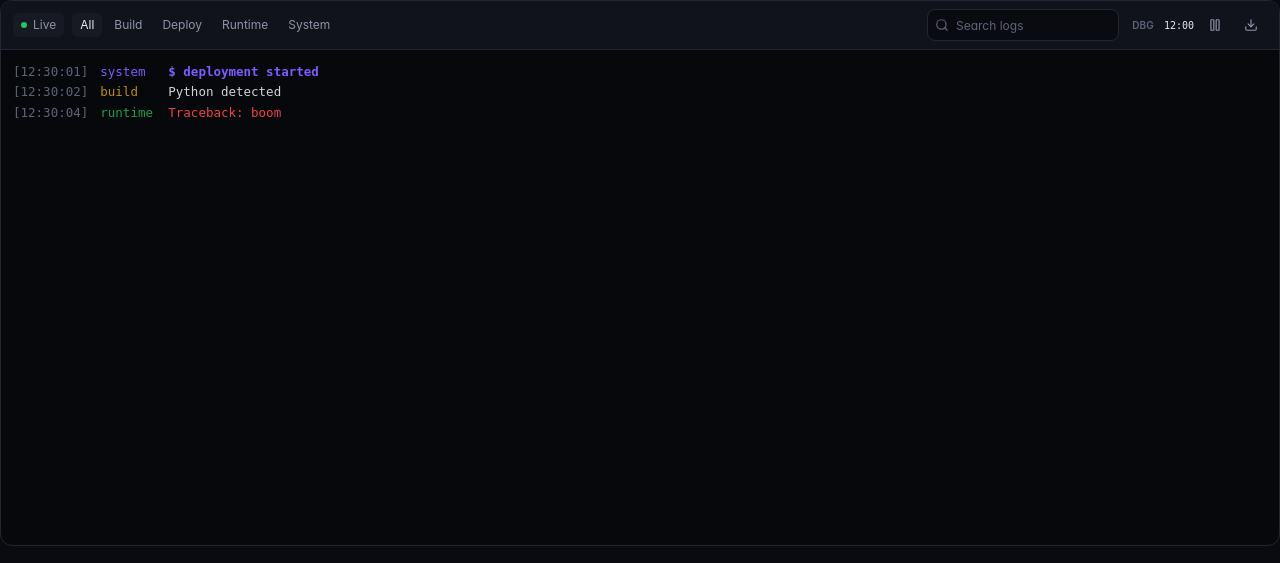
Scenario: LogViewer › filters by source and search, hides debug lines by default
Expected: the element that starts with "system" shows "Python detected", [168,84,281,99]
Expected: the element that starts with "system" does not show "Health check attempt 1", [13,64,319,120]
Click the button with aria-label "Show debug lines".
click(1143, 25)  # box [1127,9,1159,41]
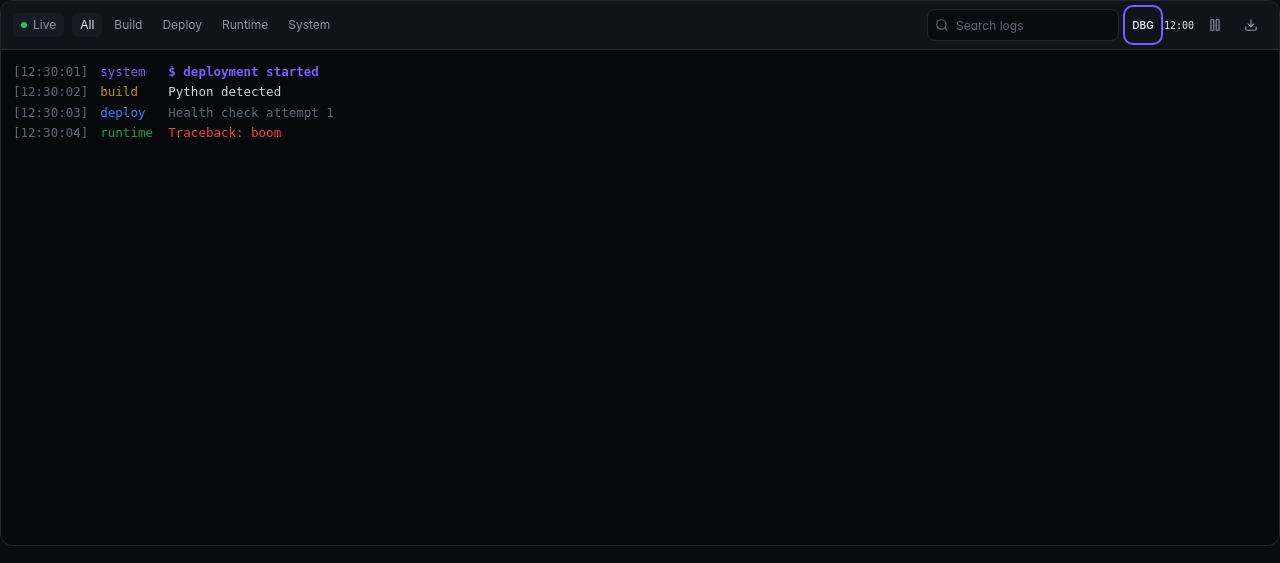
Now the element that starts with "system" shows "Health check attempt 1", box [168,105,334,120]
Click the button "runtime".
click(245, 25)  # box [214,13,276,37]
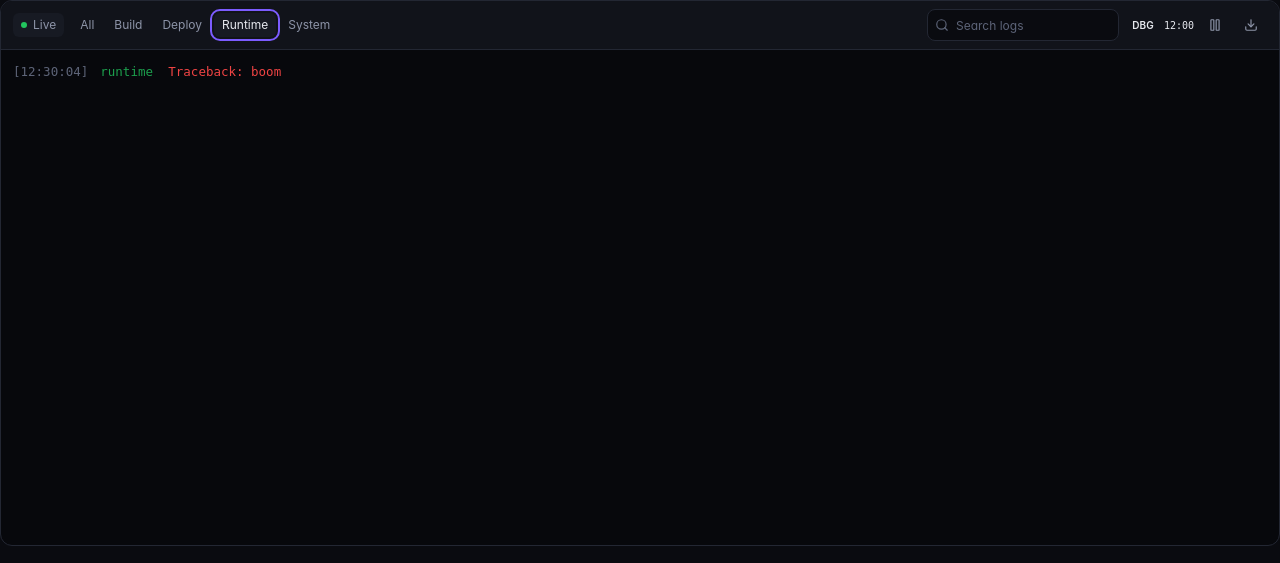
Expected: the element showing "[12:30:04] runtime Traceback: boom" is shown, [13,64,281,79]
Now the element showing "[12:30:04] runtime Traceback: boom" no longer shows "Python detected", box [13,64,281,79]
Click the button "all".
click(87, 25)  # box [72,13,102,37]
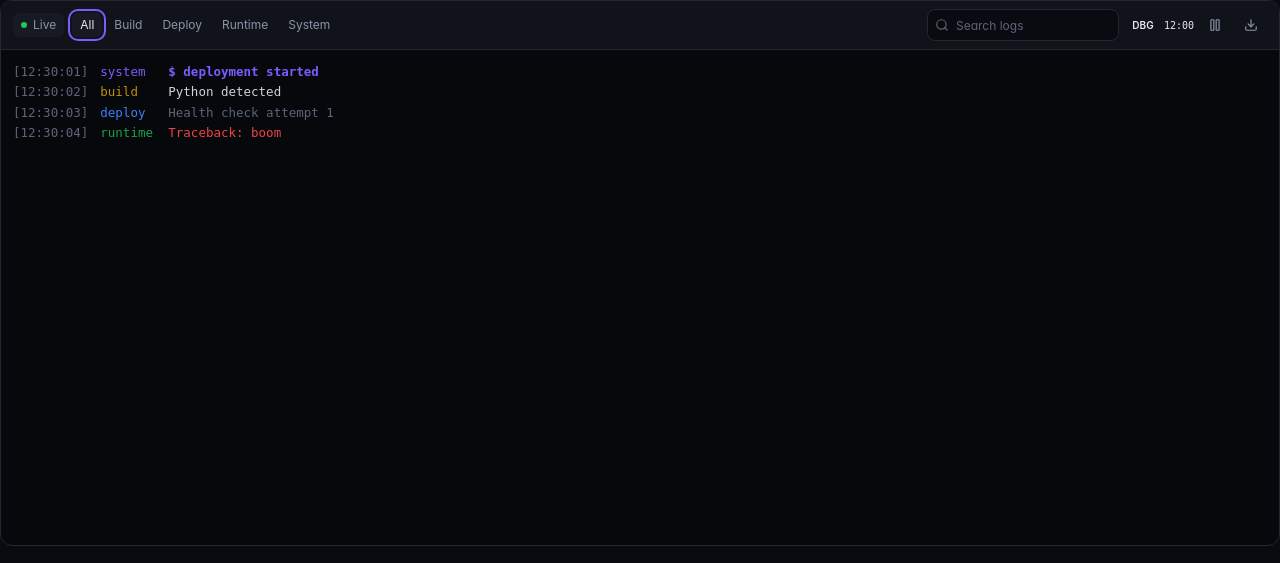
Type "python" into the field labelled "Search logs".
click(1023, 25); type("python")  # box [927,9,1119,41]
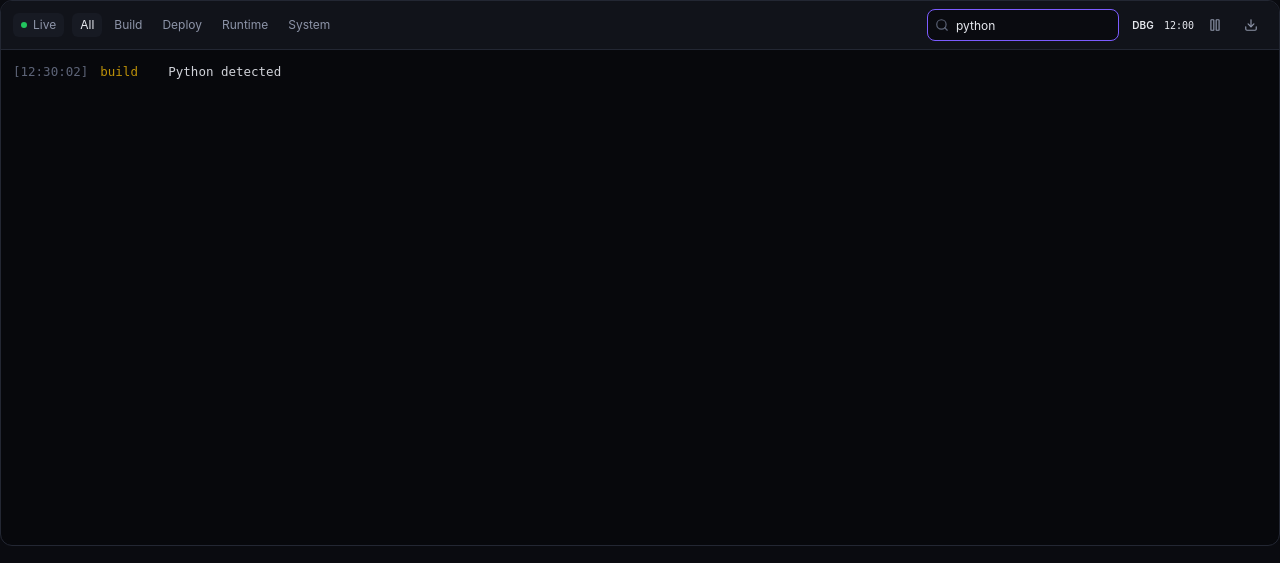
Now the element showing "[12:30:02] build Python detected" is shown, box [13,64,281,79]
Now the element showing "[12:30:02] build Python detected" no longer shows "Traceback", box [13,64,281,79]
